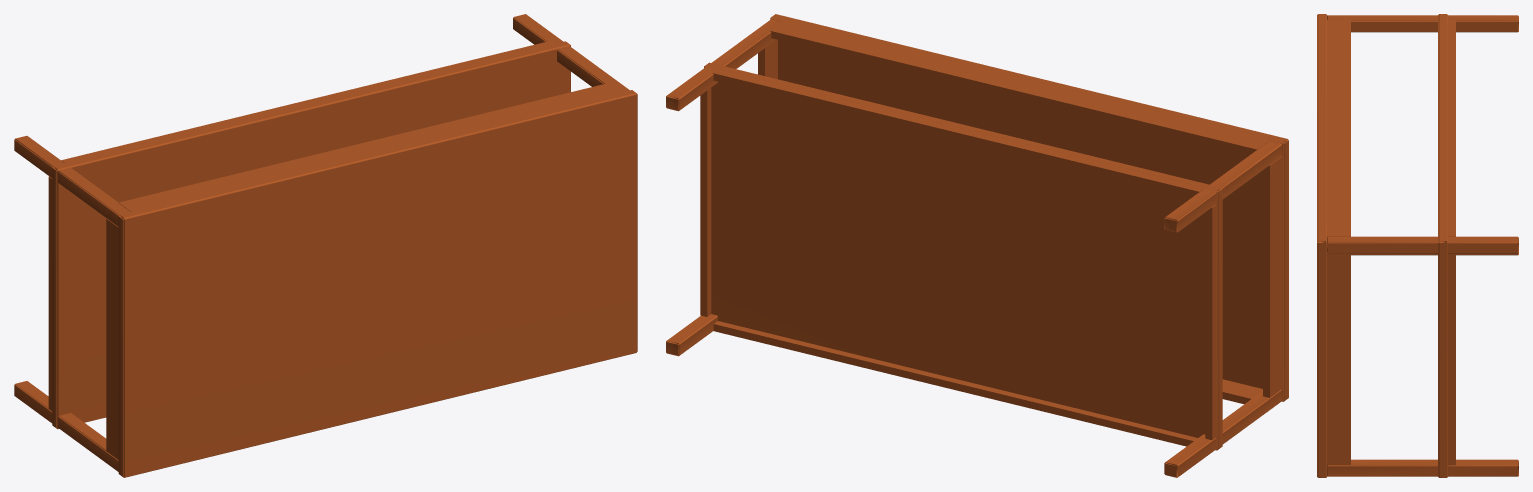
File: MeshCoffeeTable_213_0.obj
3 views of the same model, side by side, from view 1: azimuth 30°, elevation 25°; view 2: azimuth 150°, elevation 25°; view 3: azimuth 270°, elevation 25° (orthographic). The views are drawn at different scales.
Visible parts, largest first — view 1: CoffeeTable_213; view 2: CoffeeTable_213; view 3: CoffeeTable_213.
Boxes of the visible parts, x1=… form: CoffeeTable_213: x1=14, y1=14, x2=637, y2=477; CoffeeTable_213: x1=666, y1=14, x2=1288, y2=477; CoffeeTable_213: x1=1317, y1=14, x2=1518, y2=477.
Size of the model in its own units: 1.55 by 0.7468 by 0.5771.
